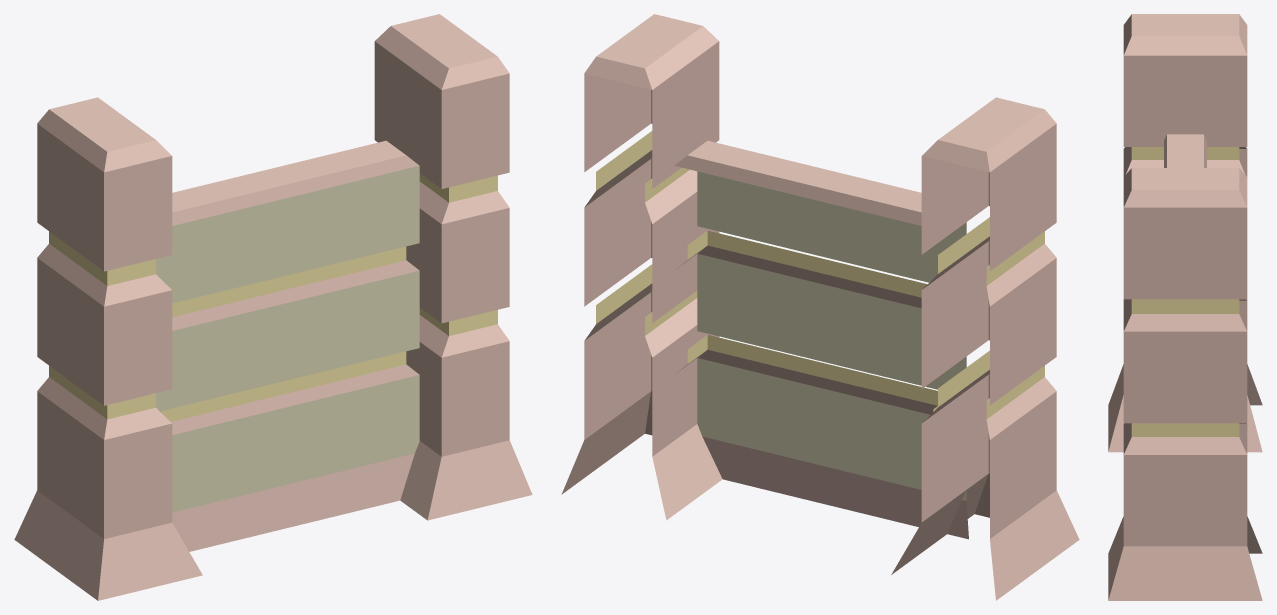
3 renders of one model, left to right at view 1: azimuth 30°, elevation 25°; view 2: azimuth 150°, elevation 25°; view 3: azimuth 270°, elevation 25°, orthographic. The views are drawn at different scales.
Parts seen in each view (by area): view 1: Object04; view 2: Object04; view 3: Object04.
Boxes of the visible parts, left/top/right/bottom form: Object04: left=14, top=14, right=532, bottom=600; Object04: left=561, top=14, right=1079, bottom=600; Object04: left=1108, top=14, right=1262, bottom=600.
Bounding box in the file's own units: 300 × 287 × 100.
